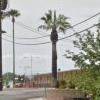Palm tree: (37, 5, 71, 81)
